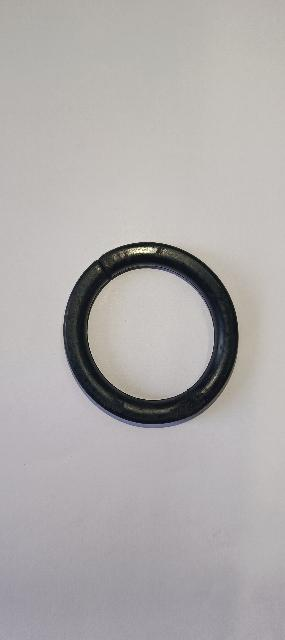4: (156, 244, 169, 257)
crack: (83, 248, 118, 282)
